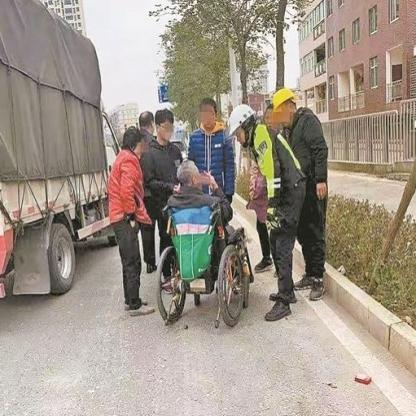wheelchair: (154, 159, 256, 331)
